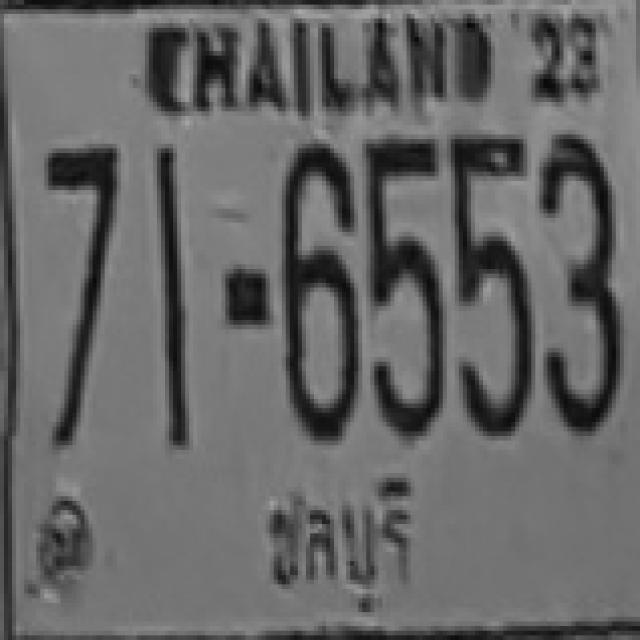0: (366, 232, 443, 431), (455, 232, 531, 431)
7: (44, 144, 117, 315)
Chonburi: (243, 472, 418, 602)
